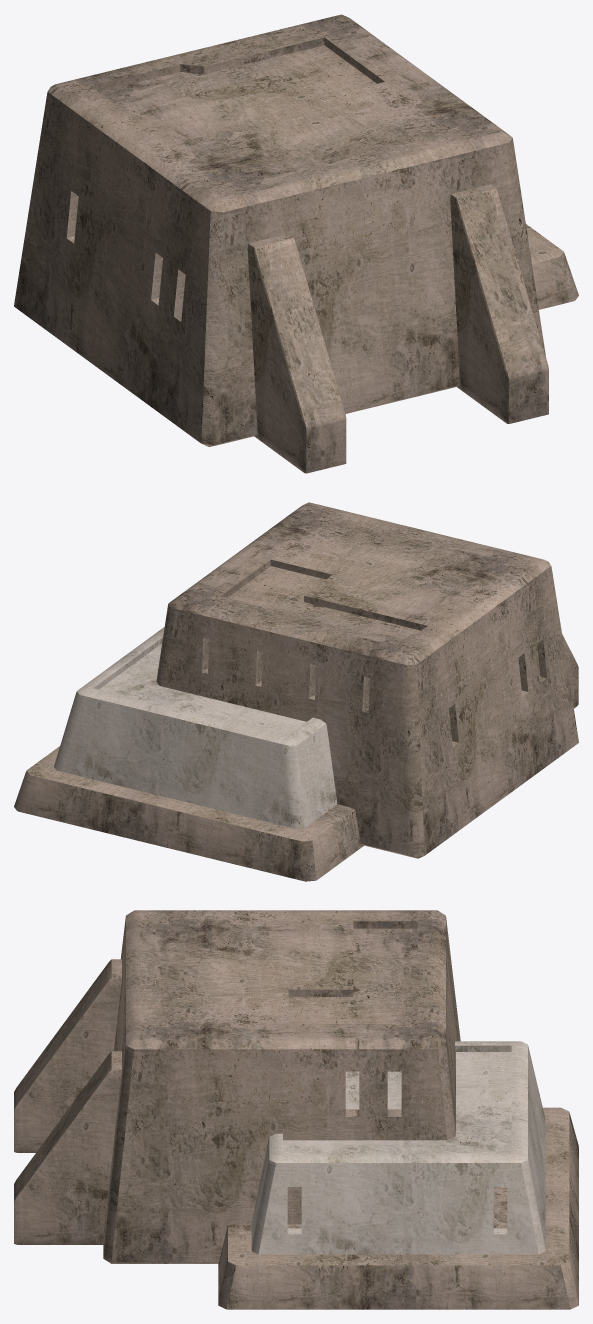
File: edificio5.FBX
3 views of the same model, one above another, from view 1: azimuth 30°, elevation 25°; view 2: azimuth 150°, elevation 25°; view 3: azimuth 270°, elevation 25° (orthographic). The views are drawn at different scales.
Visible parts, largest first — view 1: Rectangle0, Line02, Line01, Rectangle1; view 2: Rectangle0, Rectangle2, Rectangle1, Line02; view 3: Rectangle0, Rectangle2, Rectangle1, Line01, Line02.
Boxes of the visible parts, x1,y1,x2,y2 form: Rectangle0: [14, 14, 545, 446]; Line02: [247, 234, 346, 473]; Line01: [450, 184, 548, 423]; Rectangle1: [526, 224, 578, 309]; Rectangle0: [156, 502, 578, 858]; Rectangle2: [54, 627, 337, 828]; Rectangle1: [14, 746, 363, 881]; Line02: [562, 634, 578, 708]; Rectangle0: [103, 910, 460, 1263]; Rectangle2: [251, 1041, 545, 1254]; Rectangle1: [218, 1107, 578, 1309]; Line01: [14, 1051, 121, 1244]; Line02: [14, 959, 121, 1152].
Size of what is drawn, in the model's own units: 3884 by 1939 by 4643.
5 materials, 5 textured.
